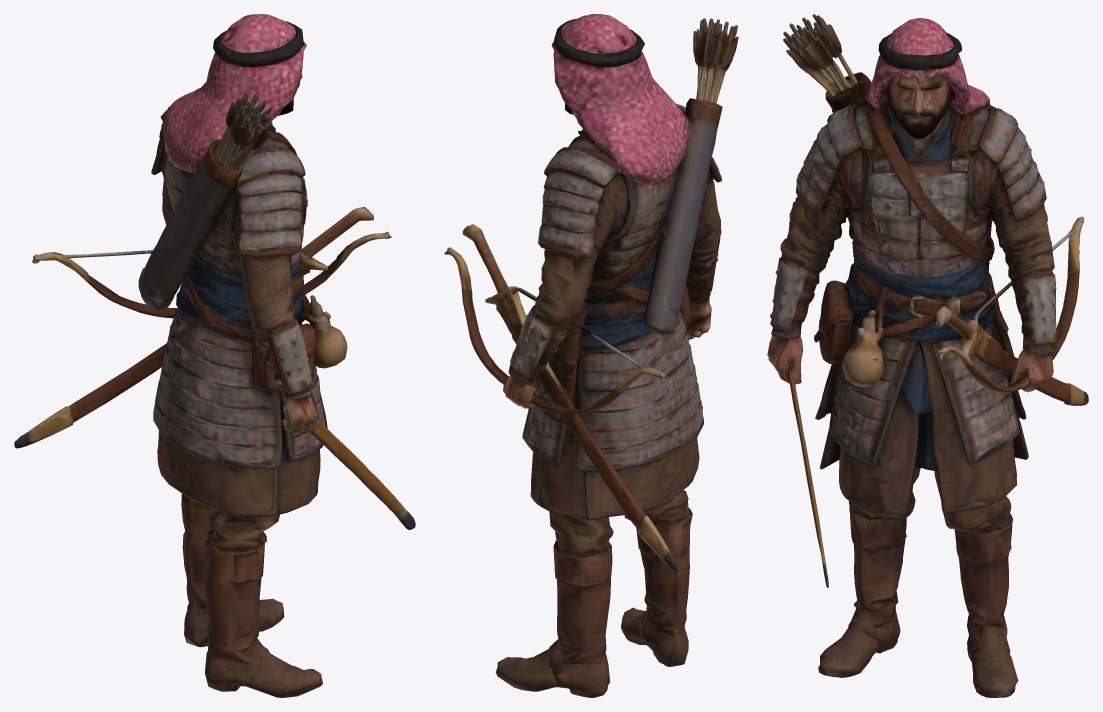
The model's file is archer.glb.
The picture shows the model from 3 angles, left to right: view 1: azimuth 30°, elevation 25°; view 2: azimuth 150°, elevation 25°; view 3: azimuth 270°, elevation 25°; orthographic projection.
Visible parts, largest first — view 1: tripo_node_cc3a76ee-7968-4089-bfd4-1b8143f230cf; view 2: tripo_node_cc3a76ee-7968-4089-bfd4-1b8143f230cf; view 3: tripo_node_cc3a76ee-7968-4089-bfd4-1b8143f230cf.
Part boxes in pixels (x1,y1,x2,y2): tripo_node_cc3a76ee-7968-4089-bfd4-1b8143f230cf: (14,14,415,697); tripo_node_cc3a76ee-7968-4089-bfd4-1b8143f230cf: (444,14,738,697); tripo_node_cc3a76ee-7968-4089-bfd4-1b8143f230cf: (767,14,1088,697).
Size of the model in its own units: 0.4962 by 0.9999 by 0.4469.
Materials: 1 (1 with a texture image).
